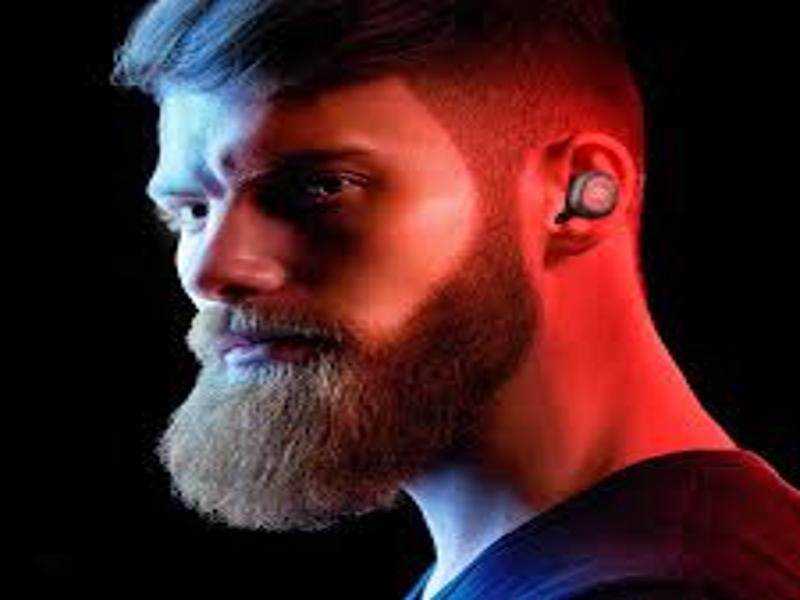headphone: (558, 168, 619, 220)
